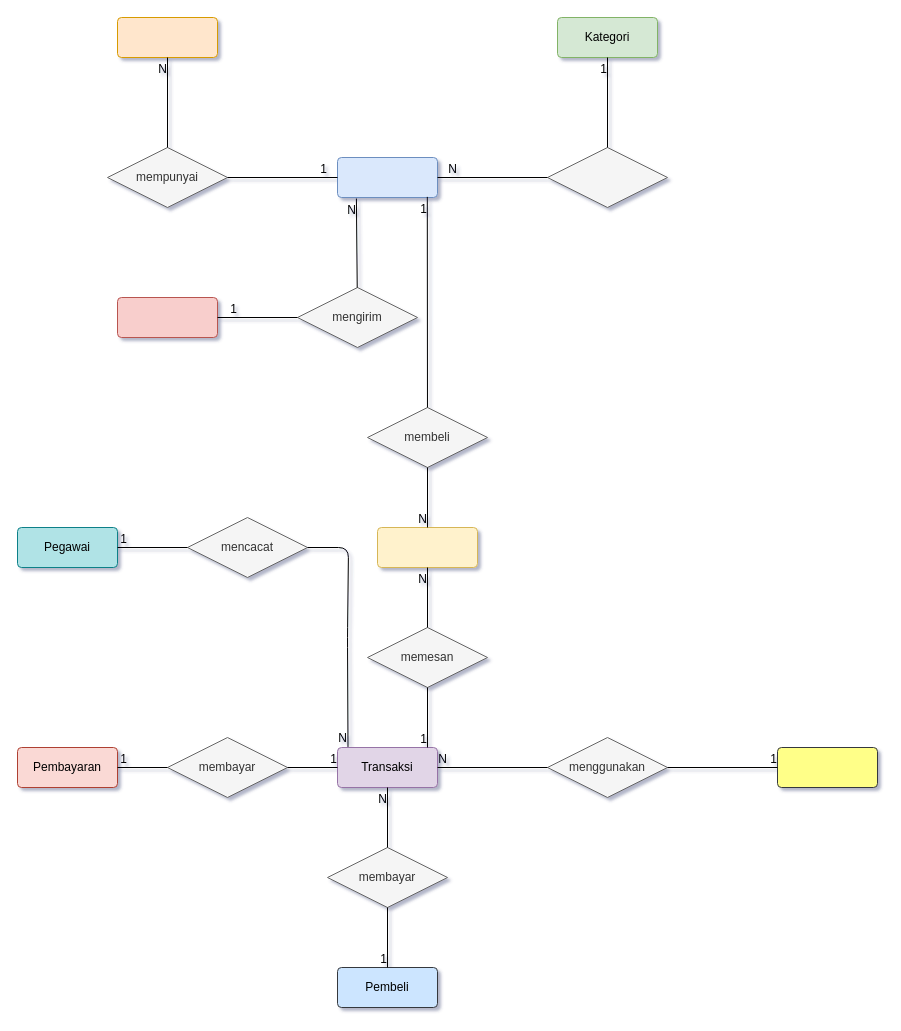
The diagram is 901 pixels wide and 1031 high, and some of its shapes have lost their labels. The shapes that lost their labels are listed below. From the top down, each one's centre as x and y in pixels, then its label:
pixel 167 37: ProdukDeskripsi
pixel 387 177: Produk
pixel 607 177: memiliki
pixel 167 317: Supplier
pixel 427 547: TransaksiDetail
pixel 827 767: Ekspedisi
